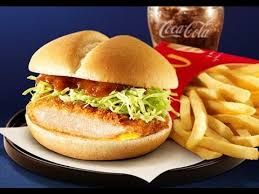hamburger: (23, 28, 184, 165)
